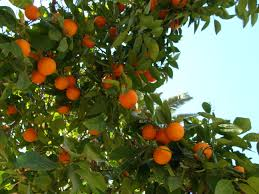orange: (115, 90, 139, 111), (36, 59, 59, 77), (167, 120, 185, 140)
